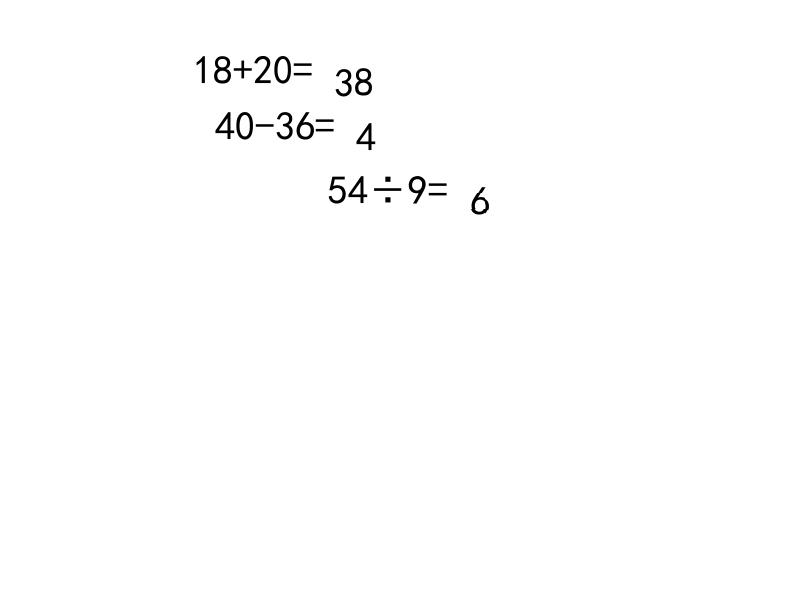+: (233, 49, 253, 79)
-: (255, 105, 275, 135)
0: (273, 49, 293, 79), (235, 105, 255, 135)
1: (193, 49, 213, 79)
2: (253, 49, 273, 79)
3: (323, 49, 343, 79), (275, 105, 295, 135)
4: (215, 105, 235, 135), (345, 105, 365, 135), (348, 169, 368, 197)
5: (328, 169, 348, 197)
6: (295, 105, 315, 135), (458, 169, 478, 197)
8: (213, 49, 233, 79), (343, 49, 363, 79)
9: (408, 169, 428, 197)
=: (293, 49, 313, 79), (315, 105, 335, 135), (428, 169, 448, 197)
÷: (368, 169, 408, 197)
